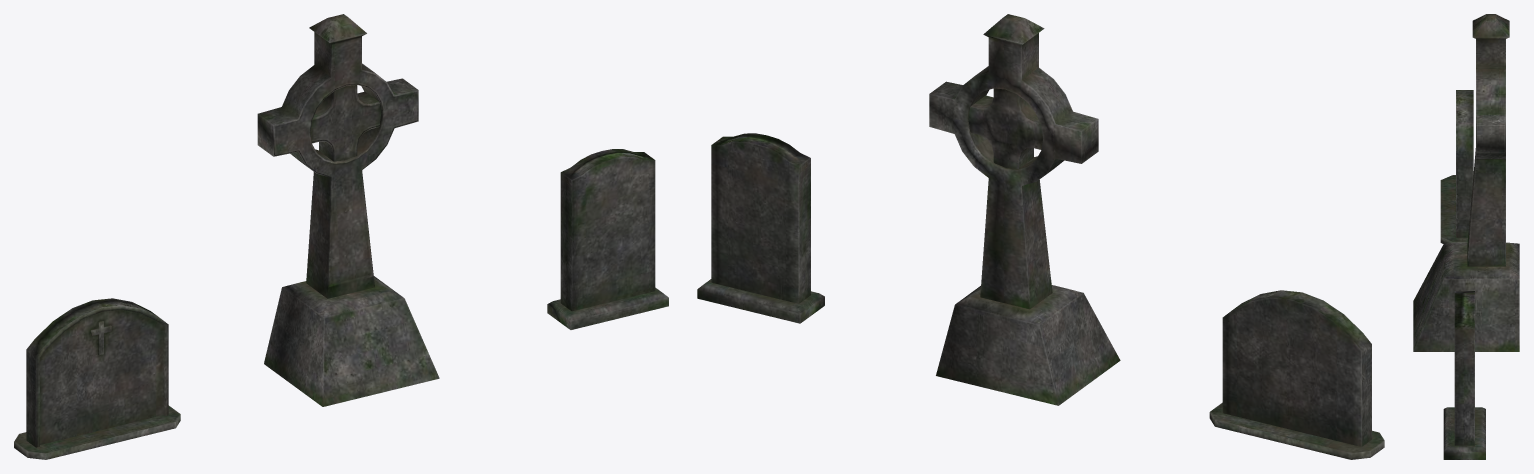
The model's file is gravestones.glb.
3 views of the same model, side by side, from view 1: azimuth 30°, elevation 25°; view 2: azimuth 150°, elevation 25°; view 3: azimuth 270°, elevation 25° (orthographic). The views are drawn at different scales.
Visible parts, largest first — view 1: gs_main_03_low, gs_main_01_low, gs_base_03_low, gs_main_02_low, gs_center_03_low, gs_base_01_low, gs_base_02_low; view 2: gs_main_03_low, gs_main_01_low, gs_main_02_low, gs_base_03_low, gs_center_03_low, gs_base_01_low, gs_base_02_low; view 3: gs_base_03_low, gs_main_03_low, gs_main_02_low, gs_main_01_low, gs_base_02_low, gs_base_01_low.
Boxes of the visible parts, <box> form: gs_main_03_low: <box>257,14,418,298</box>; gs_main_01_low: <box>26,298,168,447</box>; gs_base_03_low: <box>264,276,439,406</box>; gs_main_02_low: <box>560,149,655,311</box>; gs_center_03_low: <box>310,85,381,161</box>; gs_base_01_low: <box>14,405,180,459</box>; gs_base_02_low: <box>547,287,668,329</box>; gs_main_03_low: <box>929,14,1098,309</box>; gs_main_01_low: <box>1222,290,1371,446</box>; gs_main_02_low: <box>711,133,810,303</box>; gs_base_03_low: <box>936,285,1120,405</box>; gs_center_03_low: <box>968,88,1042,168</box>; gs_base_01_low: <box>1209,402,1384,459</box>; gs_base_02_low: <box>697,279,824,323</box>; gs_base_03_low: <box>1413,242,1519,351</box>; gs_main_03_low: <box>1467,14,1509,266</box>; gs_main_02_low: <box>1454,291,1474,445</box>; gs_main_01_low: <box>1456,90,1473,237</box>; gs_base_02_low: <box>1443,407,1485,459</box>; gs_base_01_low: <box>1440,175,1467,243</box>.
Size of the model in its own units: 3.74 by 1.93 by 0.6003.
1 material, 1 textured.
